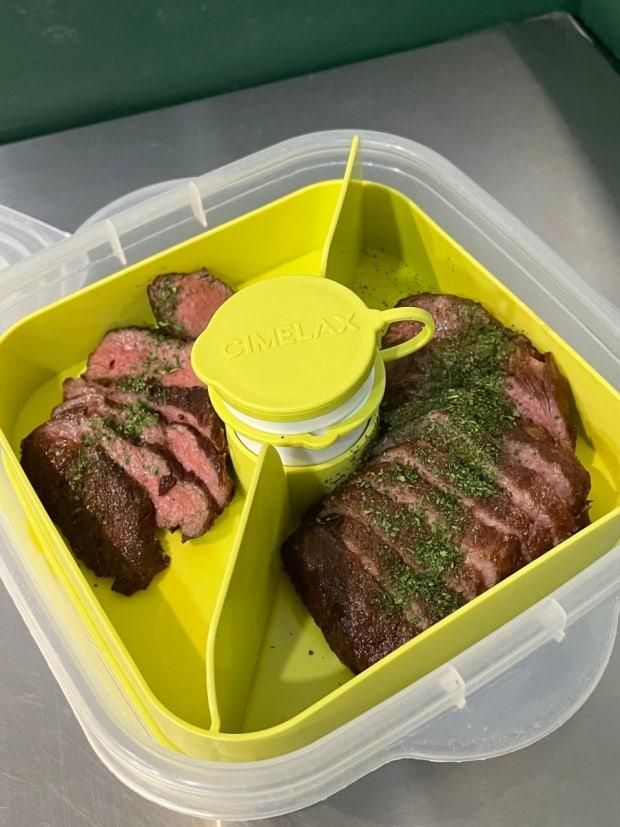Lunch Box: (0, 131, 619, 821)
